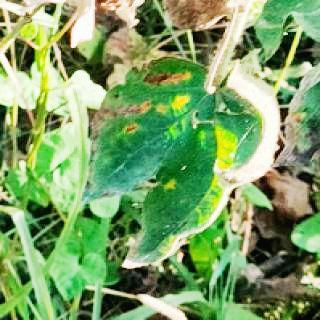blight: (77, 47, 284, 277)
